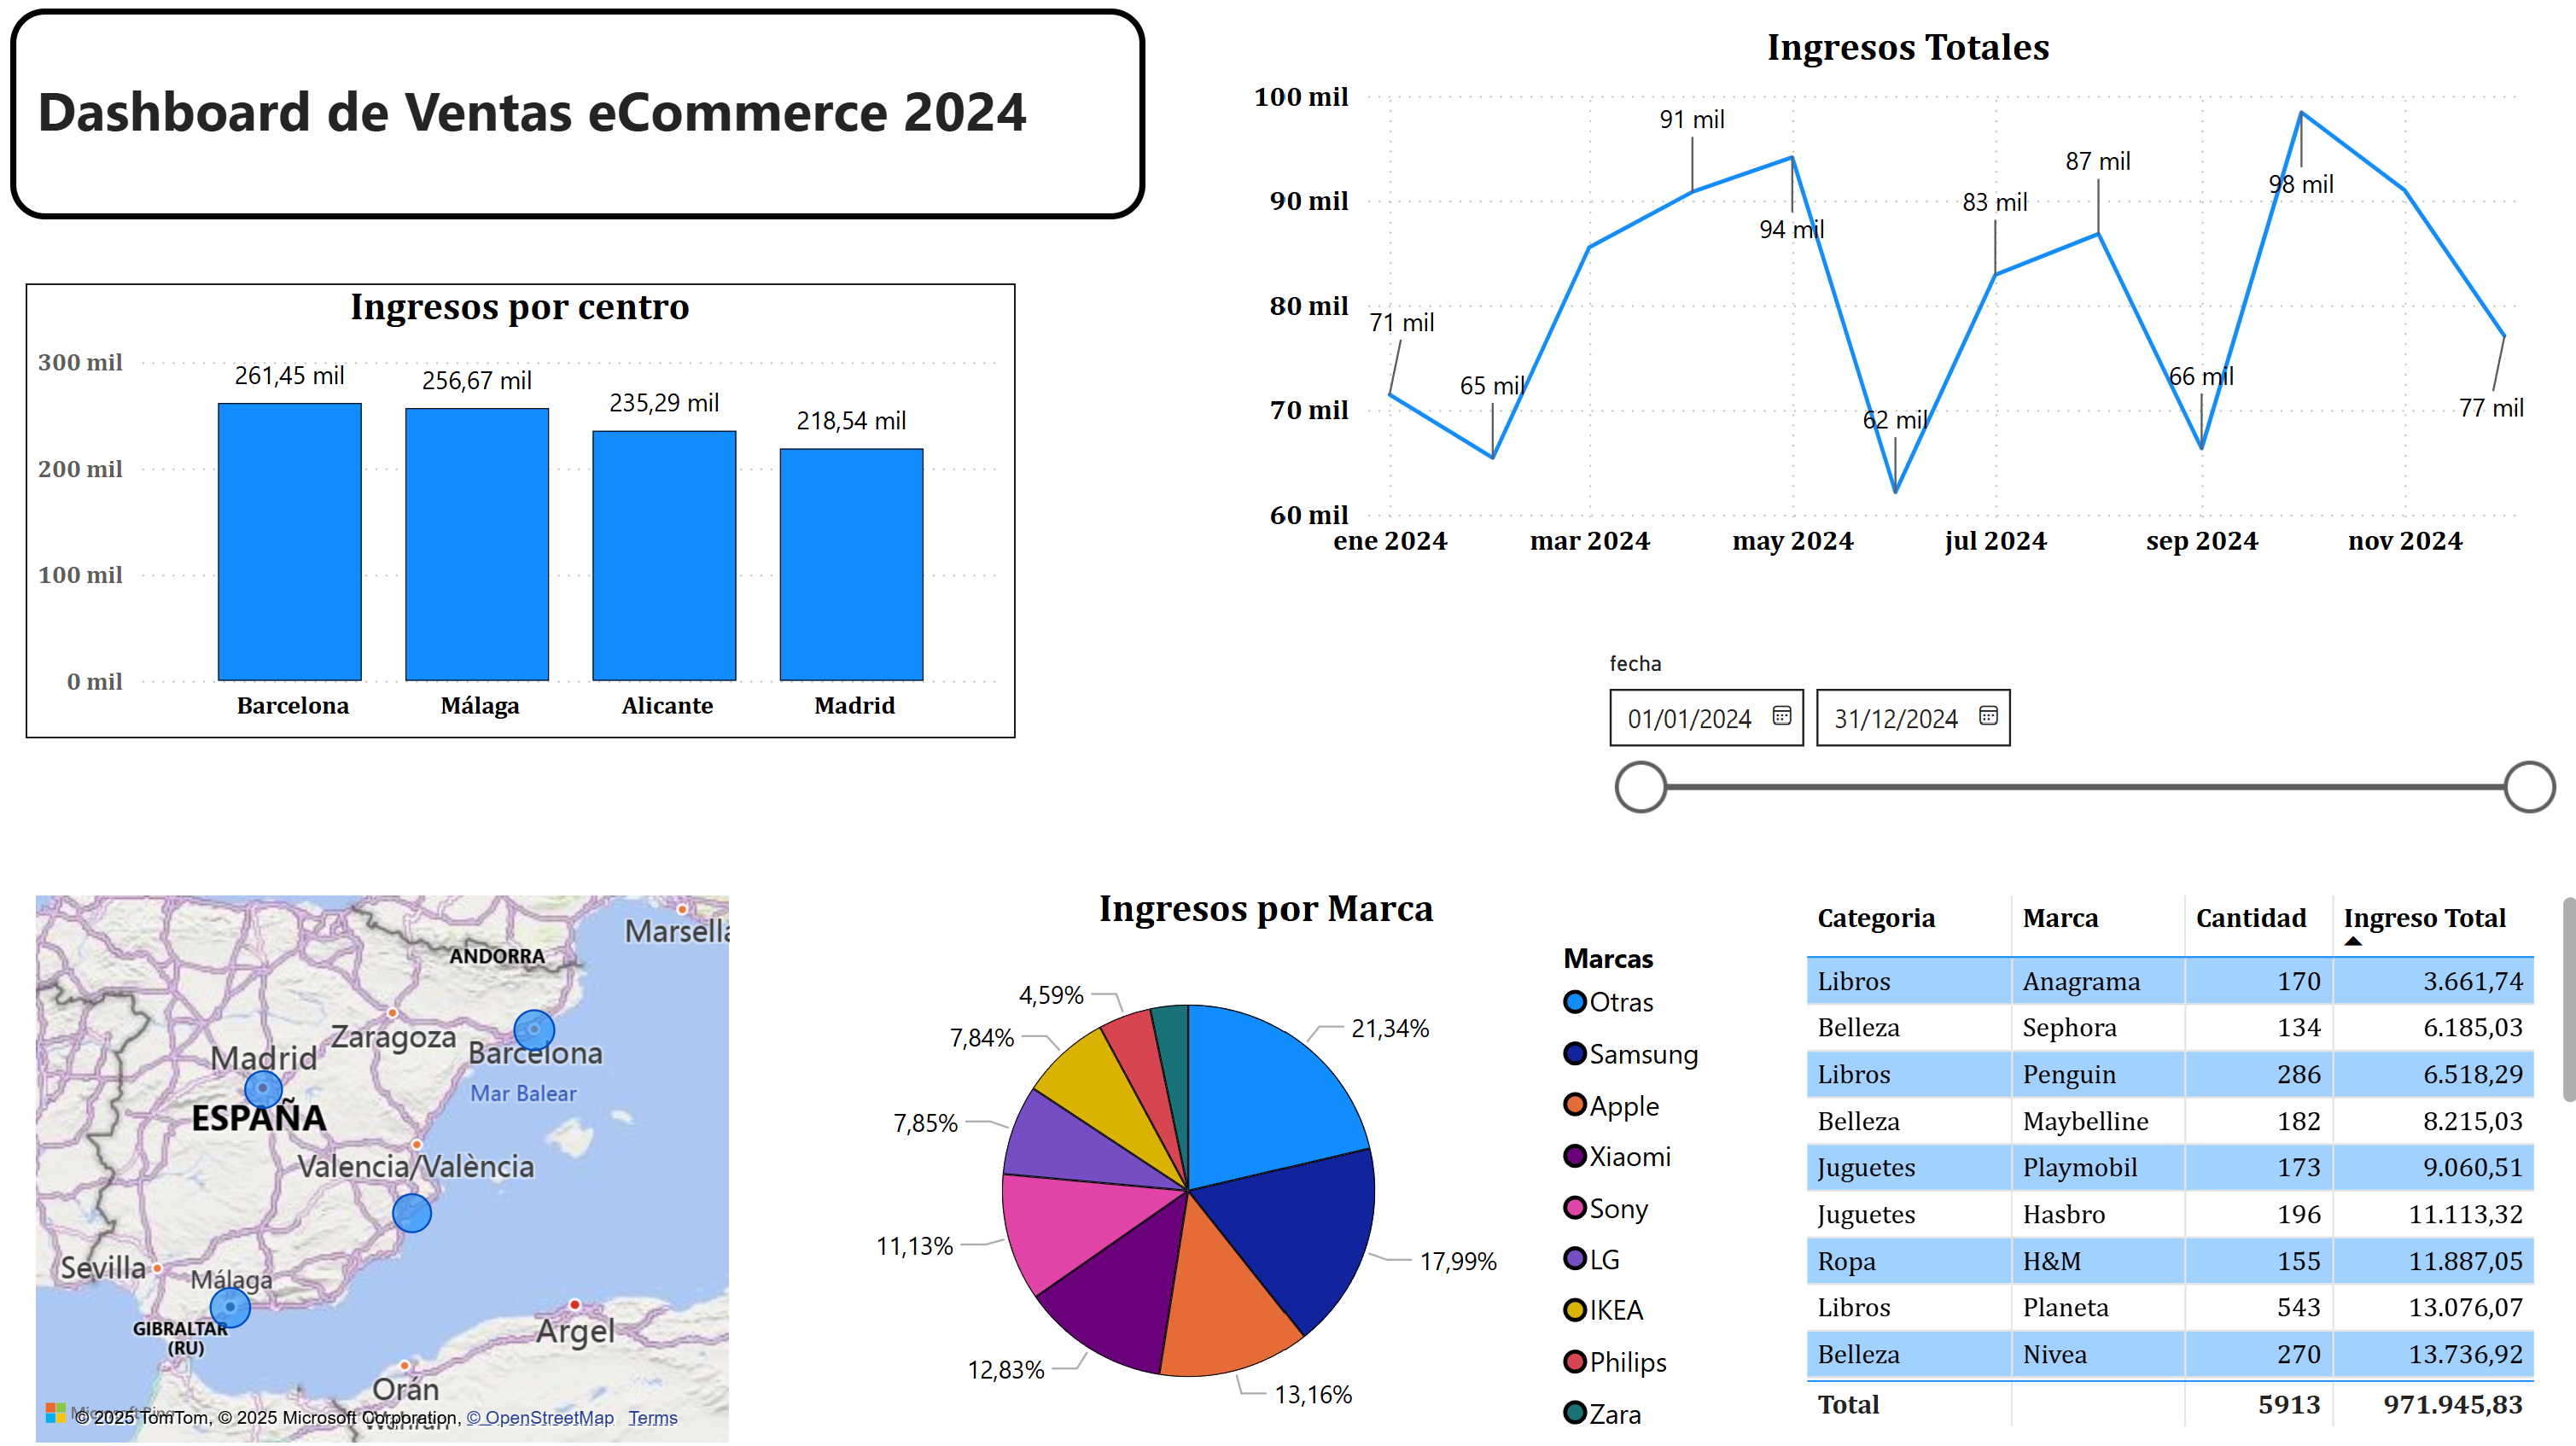

What the dashboard file says about the page in this screenshot:
{"tool":"powerbi","page":{"name":"DashBoard","canvas":[1280,720],"ordinal":0},"visuals":[{"type":"textbox","box":[8,8,560,104],"z":0},{"type":"lineChart","title":"Ingresos Totales","fields":{"Category":["Sheet1.fecha.Variación.Jerarquía de fechas.Año","Sheet1.fecha.Variación.Jerarquía de fechas.Trimestre","Sheet1.fecha.Variación.Jerarquía de fechas.Mes","Sheet1.fecha.Variación.Jerarquía de fechas.Día"],"Y":["Sum(Sheet1.ingreso_total)"]},"box":[616,16,656,272],"z":1000},{"type":"pieChart","title":"Ingresos por Marca","fields":{"Category":["Sheet1.Marca Agrupada"],"Y":["Sum(Sheet1.ingreso_total)"]},"box":[400,440,456,280],"z":2000},{"type":"columnChart","title":"Ingresos por centro","fields":{"Category":["Tabla.ciudad"],"Y":["Sum(Sheet1.ingreso_total)"]},"box":[16,144,488,224],"z":3000},{"type":"map","fields":{"Category":["Tabla.ciudad"],"Size":["Sum(Sheet1.ingreso_total)"]},"box":[16,440,352,280],"z":4000},{"type":"tableEx","fields":{"Values":["Sheet1.categoria","Sheet1.marca","Sum(Sheet1.cantidad)","Sum(Sheet1.ingreso_total)"]},"box":[888,440,392,272],"z":5000},{"type":"slicer","fields":{"Values":["Sheet1.fecha"]},"box":[784,320,488,96],"z":6000}]}

Visuals, with their boxes in screenshot pixels (x1, y1, x2, y2), scaled from the page's 1280x720 canvas onto the 2576x1446 screenshot:
textbox: <bbox>16, 16, 1143, 225</bbox>
"Ingresos Totales" lineChart: <bbox>1239, 32, 2560, 579</bbox>
"Ingresos por Marca" pieChart: <bbox>805, 883, 1722, 1445</bbox>
"Ingresos por centro" columnChart: <bbox>32, 289, 1014, 739</bbox>
map - Tabla.ciudad x Sum(Sheet1.ingreso_total): <bbox>32, 883, 741, 1445</bbox>
tableEx - Sheet1.categoria x Sheet1.marca: <bbox>1787, 883, 2575, 1430</bbox>
slicer - Sheet1.fecha: <bbox>1578, 643, 2560, 836</bbox>
